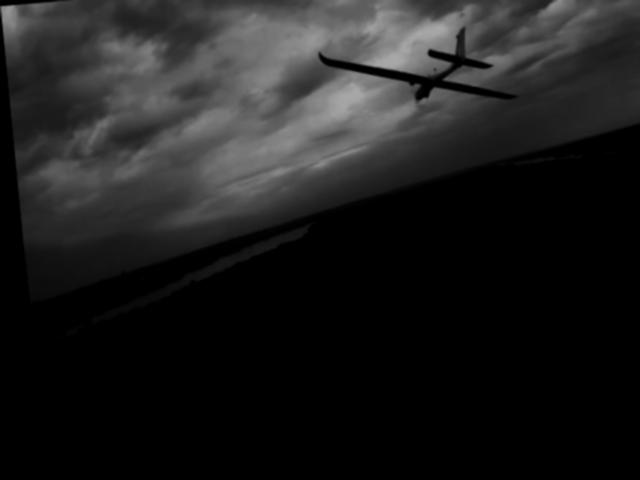hedef: (294, 11, 548, 148)
